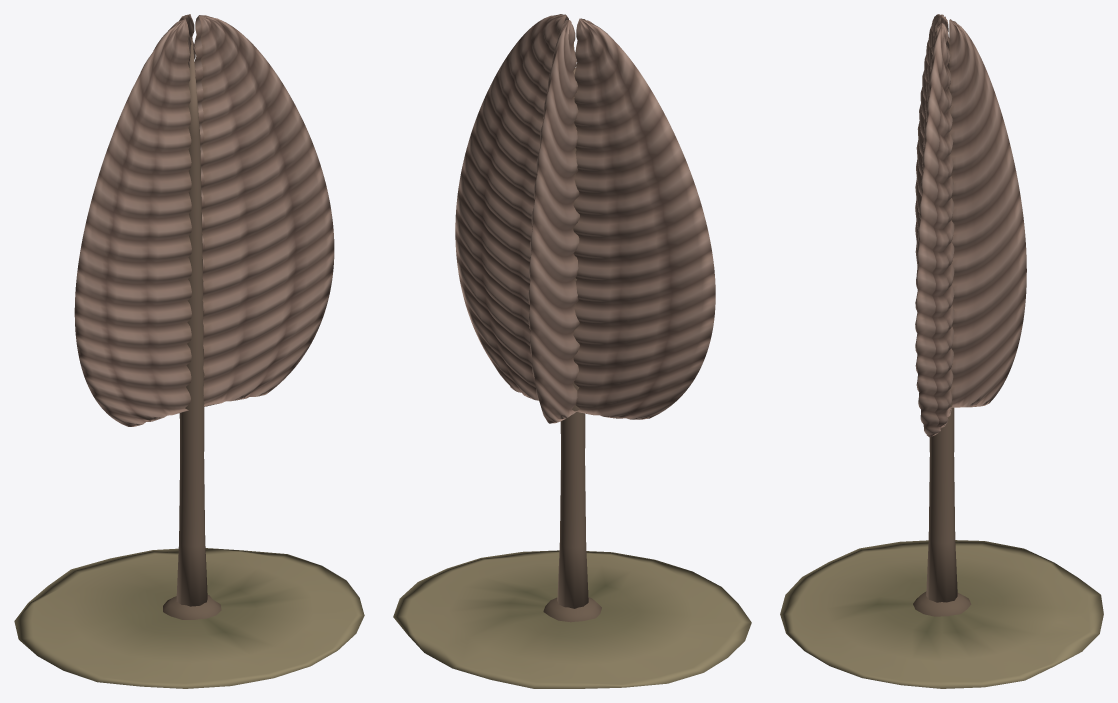
Rendered from Swartpuntia.fbx.
The picture shows the model from 3 angles, left to right: view 1: azimuth 30°, elevation 25°; view 2: azimuth 150°, elevation 25°; view 3: azimuth 270°, elevation 25°; orthographic projection.
Visible parts, largest first — view 1: Swartpuntia; view 2: Swartpuntia; view 3: Swartpuntia.
Part boxes in pixels (x1,y1,x2,y2): Swartpuntia: [14, 14, 364, 688]; Swartpuntia: [393, 14, 751, 688]; Swartpuntia: [780, 14, 1103, 688].
Size of the model in its own units: 0.96 by 1.78 by 0.88.
